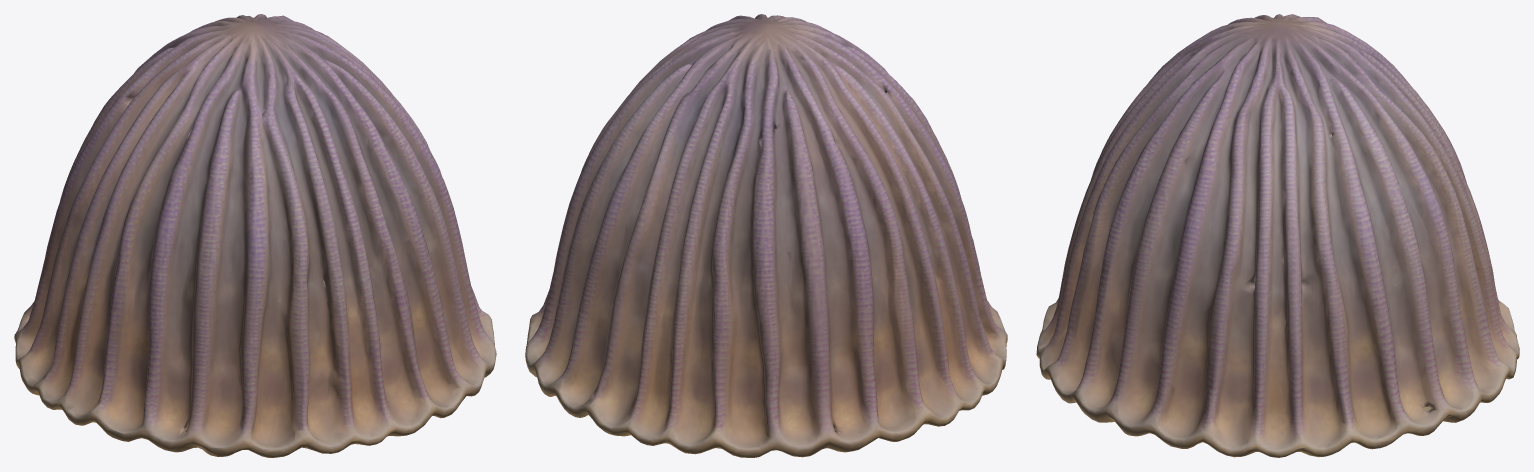
3 views of the same model, side by side, from view 1: azimuth 30°, elevation 25°; view 2: azimuth 150°, elevation 25°; view 3: azimuth 270°, elevation 25° (orthographic).
Visible parts, largest first — view 1: world; view 2: world; view 3: world.
Part boxes in pixels (x1,y1,x2,y2): world: (14, 14, 496, 457); world: (525, 14, 1007, 457); world: (1036, 14, 1519, 457).
Bounding box in the file's own units: 0.0523 × 0.04 × 0.0522.
Materials: 1 (1 with a texture image).
